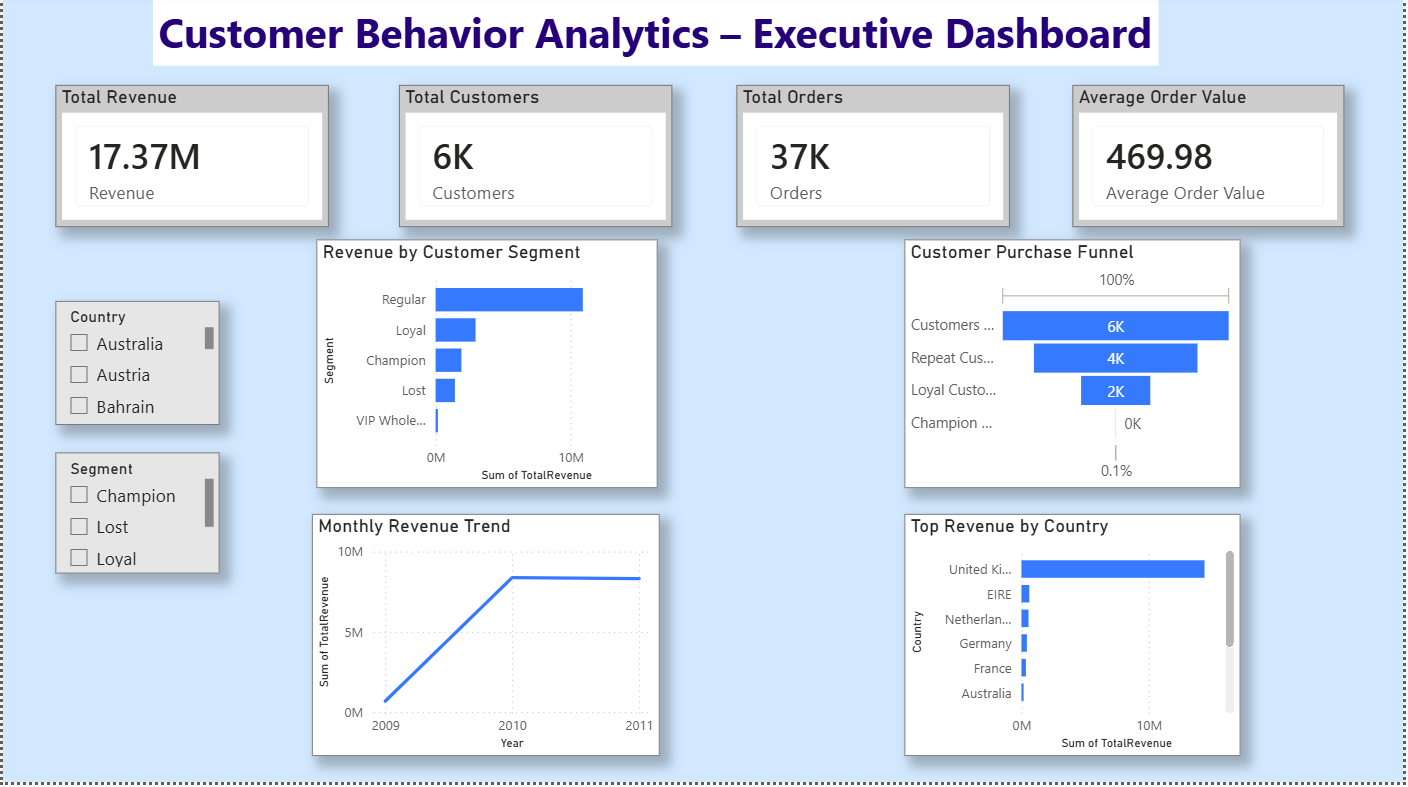

The dashboard page shown, as its layout file describes it:
{"tool":"powerbi","page":{"name":"Executive Dashboard","canvas":[1280,720],"ordinal":0},"visuals":[{"type":"cardVisual","title":"Total Revenue","fields":{"Data":["Sum(dashboard_summary.TotalRevenue)"]},"box":[48.5,81.8,250,130.3],"z":0},{"type":"cardVisual","title":"Total Customers","fields":{"Data":["Sum(dashboard_summary.TotalCustomers)"]},"box":[362.1,81.8,250,130.3],"z":1000},{"type":"cardVisual","title":"Total Orders","fields":{"Data":["Sum(dashboard_summary.TotalOrders)"]},"box":[671.2,81.8,250,130.3],"z":2000},{"type":"cardVisual","title":"Average Order Value","fields":{"Data":["Avg(dashboard_summary.AverageOrderValue)"]},"box":[978.8,81.8,248.5,130.3],"z":3000},{"type":"clusteredBarChart","title":"Revenue by Customer Segment","fields":{"Category":["revenue_by_segment.Segment"],"Y":["Sum(revenue_by_segment.TotalRevenue)"]},"box":[286.4,224.2,312.1,227.3],"z":4000},{"type":"lineChart","title":"Monthly Revenue Trend","fields":{"Category":["monthly_revenue.YearMonth.Variation.Date Hierarchy.Year","monthly_revenue.YearMonth.Variation.Date Hierarchy.Quarter","monthly_revenue.YearMonth.Variation.Date Hierarchy.Month","monthly_revenue.YearMonth.Variation.Date Hierarchy.Day"],"Y":["Sum(monthly_revenue.TotalRevenue)"]},"box":[283.3,474.2,318.2,221.2],"z":5000},{"type":"funnel","title":"Customer Purchase Funnel","fields":{"Category":["purchase_funnel.Stage"],"Y":["Sum(purchase_funnel.Customers)"]},"box":[824.2,224.2,307.6,227.3],"z":6000},{"type":"clusteredBarChart","title":"Top Revenue by Country","fields":{"Category":["revenue_by_country.Country"],"Y":["Sum(revenue_by_country.TotalRevenue)"]},"box":[824.2,474.2,307.6,221.2],"z":7000},{"type":"textbox","box":[137.9,3,919.7,62.1],"z":8000},{"type":"slicer","fields":{"Values":["revenue_by_country.Country"]},"box":[48.5,280.3,150,113.6],"z":9000},{"type":"slicer","fields":{"Values":["revenue_by_segment.Segment"]},"box":[48.5,418.2,150,110.6],"z":10000}]}

Visuals, with their boxes in screenshot pixels (x1, y1, x2, y2), scaled from the page's 1280x720 canvas onto the 1408x787 screenshot:
"Total Revenue" cardVisual: pyautogui.locateOnScreen(53, 89, 328, 232)
"Total Customers" cardVisual: pyautogui.locateOnScreen(398, 89, 673, 232)
"Total Orders" cardVisual: pyautogui.locateOnScreen(738, 89, 1013, 232)
"Average Order Value" cardVisual: pyautogui.locateOnScreen(1077, 89, 1350, 232)
"Revenue by Customer Segment" clusteredBarChart: pyautogui.locateOnScreen(315, 245, 658, 494)
"Monthly Revenue Trend" lineChart: pyautogui.locateOnScreen(312, 518, 662, 760)
"Customer Purchase Funnel" funnel: pyautogui.locateOnScreen(907, 245, 1245, 494)
"Top Revenue by Country" clusteredBarChart: pyautogui.locateOnScreen(907, 518, 1245, 760)
textbox: pyautogui.locateOnScreen(152, 3, 1163, 71)
slicer - revenue_by_country.Country: pyautogui.locateOnScreen(53, 306, 218, 431)
slicer - revenue_by_segment.Segment: pyautogui.locateOnScreen(53, 457, 218, 578)
